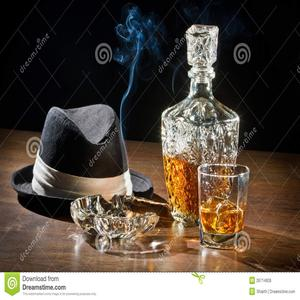cigarette: (119, 193, 173, 213)
